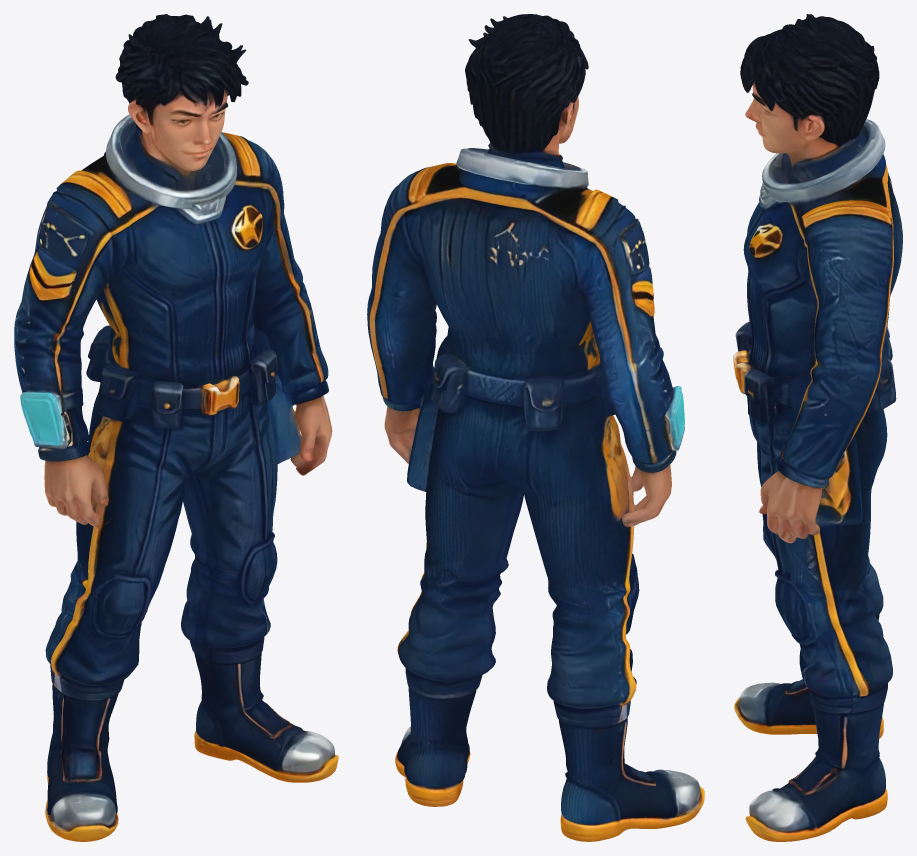
File: avatar-male-starfarer.glb
The picture shows the model from 3 angles, left to right: view 1: azimuth 30°, elevation 25°; view 2: azimuth 150°, elevation 25°; view 3: azimuth 270°, elevation 25°; orthographic projection. The views are drawn at different scales.
Bounding box in the file's own units: 0.7686 × 1.9 × 0.387.
1 material, 1 textured.
